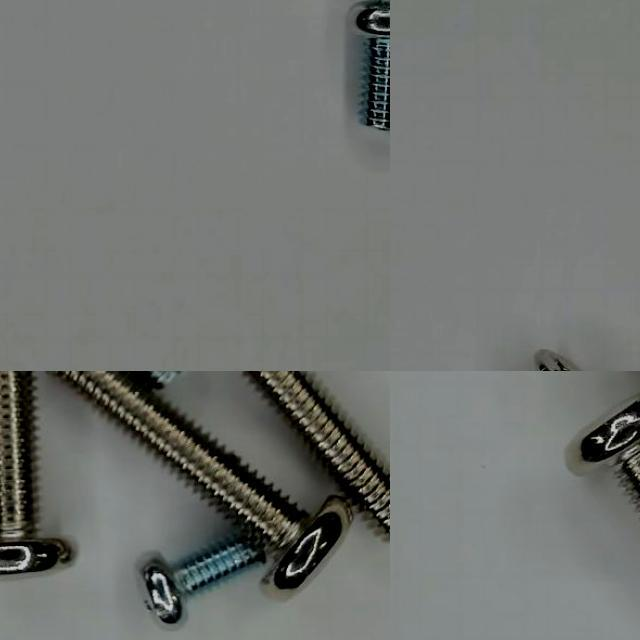Screw: (50, 371, 352, 592), (247, 371, 390, 537), (0, 371, 70, 575), (142, 539, 264, 625), (565, 395, 640, 513), (349, 0, 390, 130)
